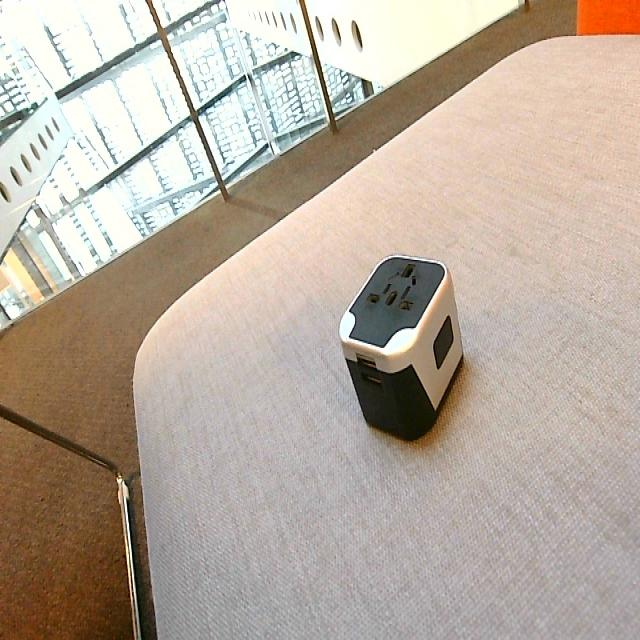adapter: (338, 252, 464, 441)
